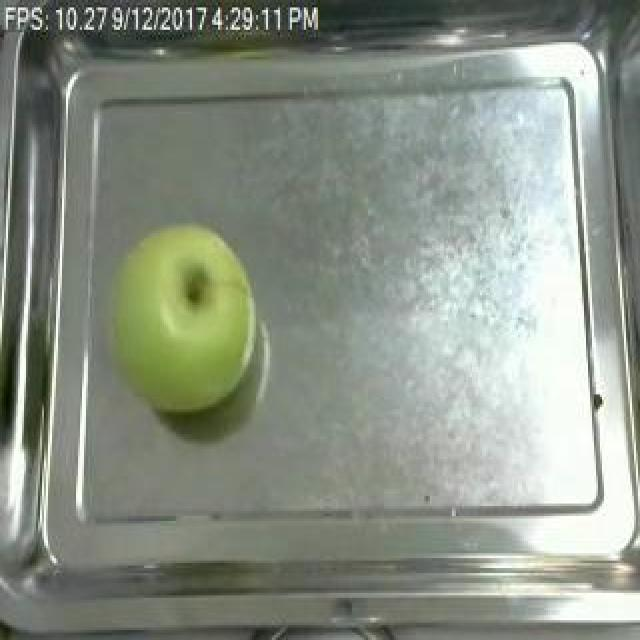Rotten Apple: (106, 223, 258, 417)
